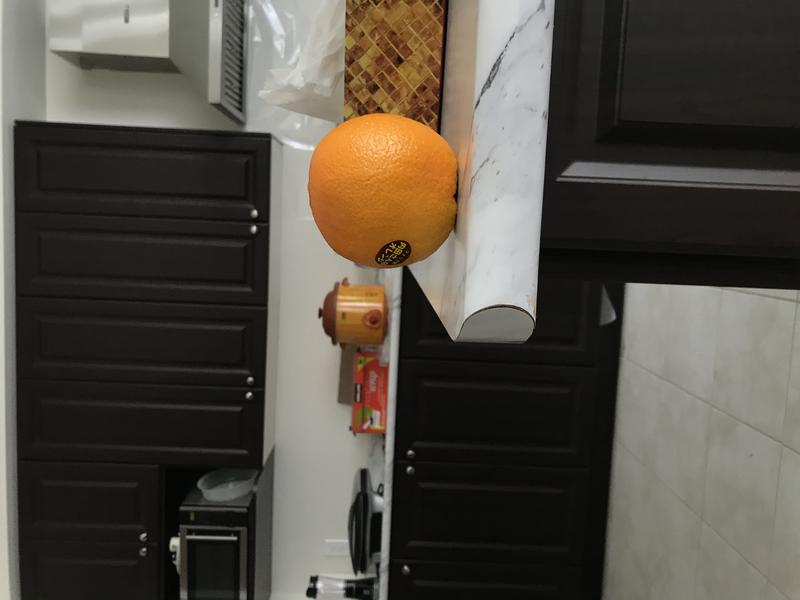orange: (300, 109, 468, 275)
